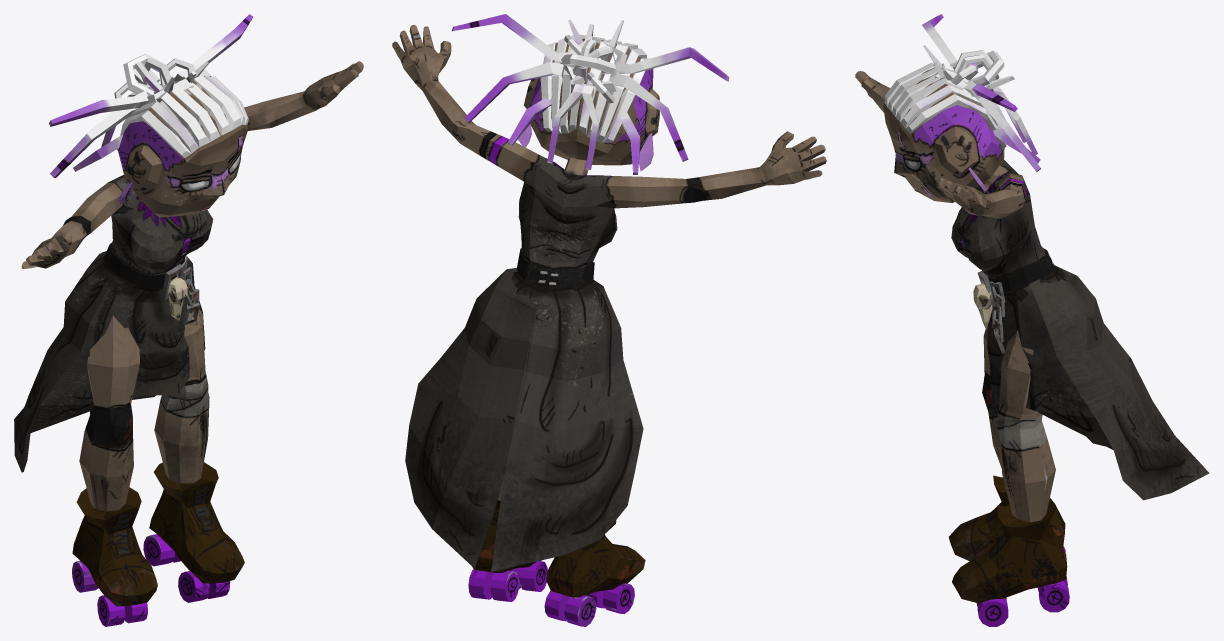
File: bruja_000092.obj
3 views of the same model, side by side, from view 1: azimuth 30°, elevation 25°; view 2: azimuth 150°, elevation 25°; view 3: azimuth 270°, elevation 25° (orthographic). The views are drawn at different scales.
Visible parts, largest first — view 1: Bruja_Plane.001; view 2: Bruja_Plane.001; view 3: Bruja_Plane.001.
Boxes of the visible parts, box(x1,y1,x2,y2) form: Bruja_Plane.001: box(14, 14, 363, 626); Bruja_Plane.001: box(392, 14, 826, 626); Bruja_Plane.001: box(855, 14, 1209, 626).
Size of the model in its own units: 11.48 by 16.26 by 9.53.
